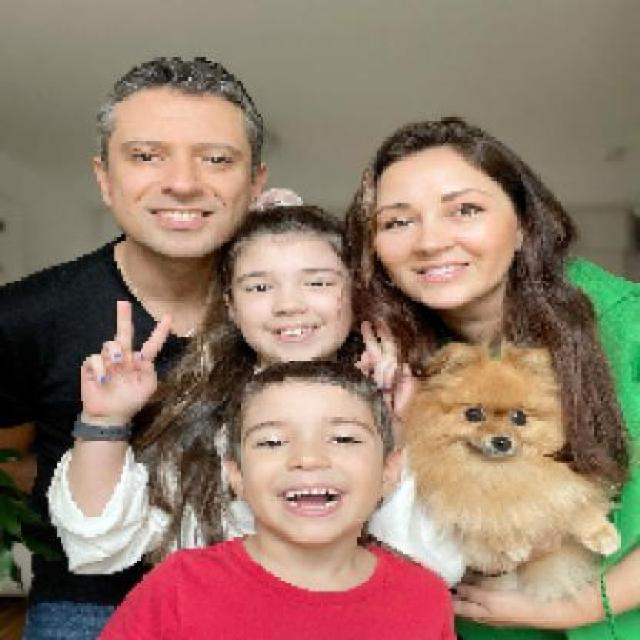child: (85, 357, 458, 637)
